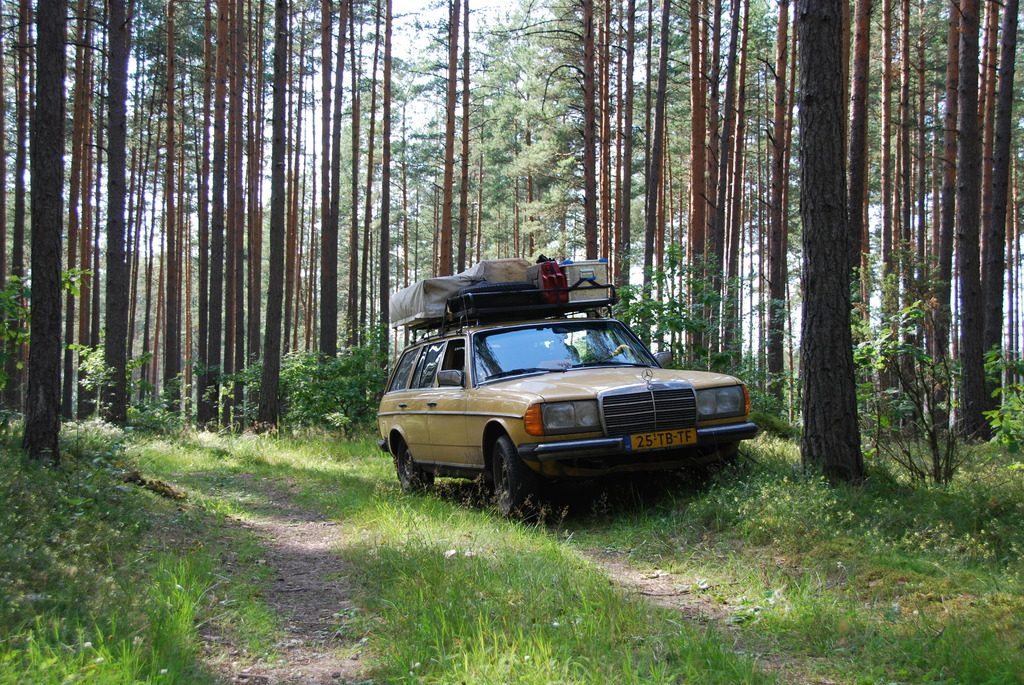Car: (368, 283, 756, 513)
